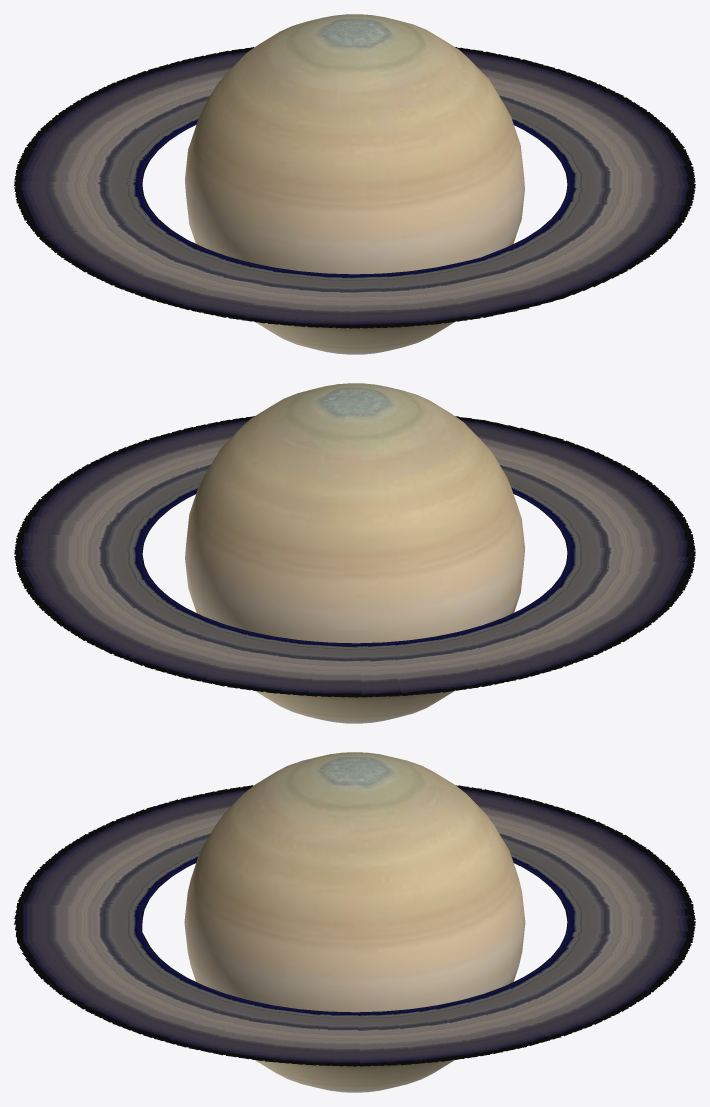
The model's file is saturn.glb.
3 views of the same model, one above another, from view 1: azimuth 30°, elevation 25°; view 2: azimuth 150°, elevation 25°; view 3: azimuth 270°, elevation 25° (orthographic).
Visible parts, largest first — view 1: 平面, 球.003; view 2: 平面, 球.003; view 3: 平面, 球.003.
Part boxes in pixels (<box>): 平面: <box>14,47,695,328</box>; 球.003: <box>185,14,524,354</box>; 平面: <box>14,416,695,697</box>; 球.003: <box>185,383,524,723</box>; 平面: <box>14,785,695,1066</box>; 球.003: <box>184,752,525,1092</box>.
Bounding box in the file's own units: 10 × 5 × 10.
2 materials, 2 textured.
